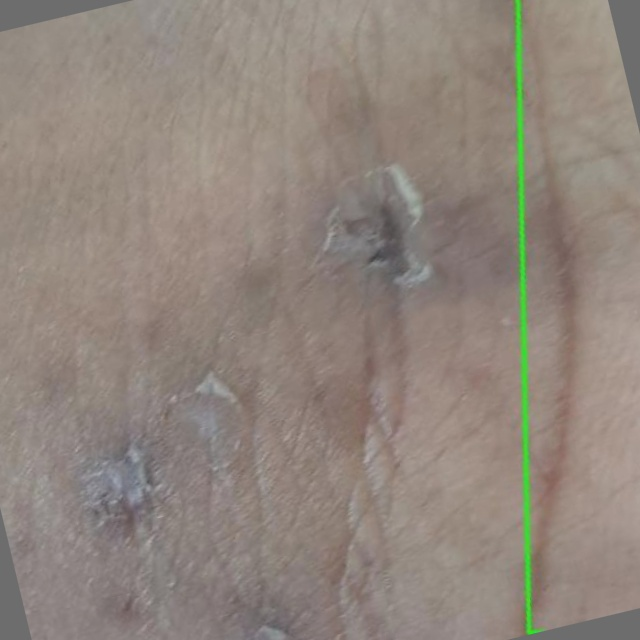Scabies: (519, 0, 639, 633)
